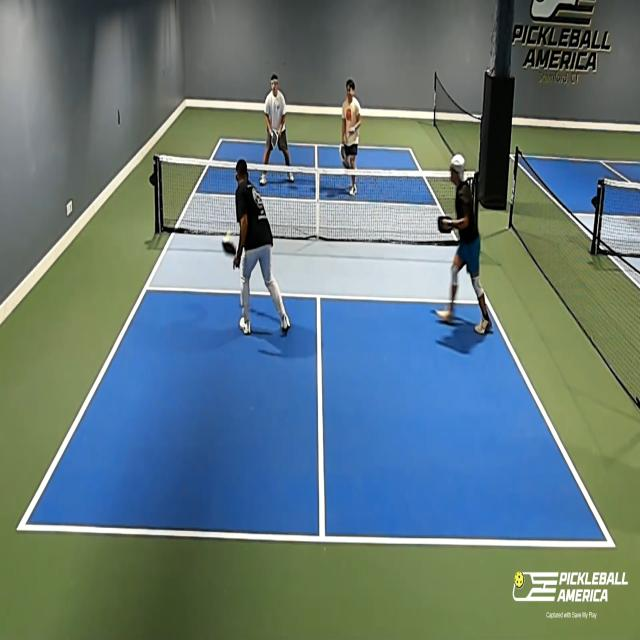Pickleball: (226, 226, 232, 241)
